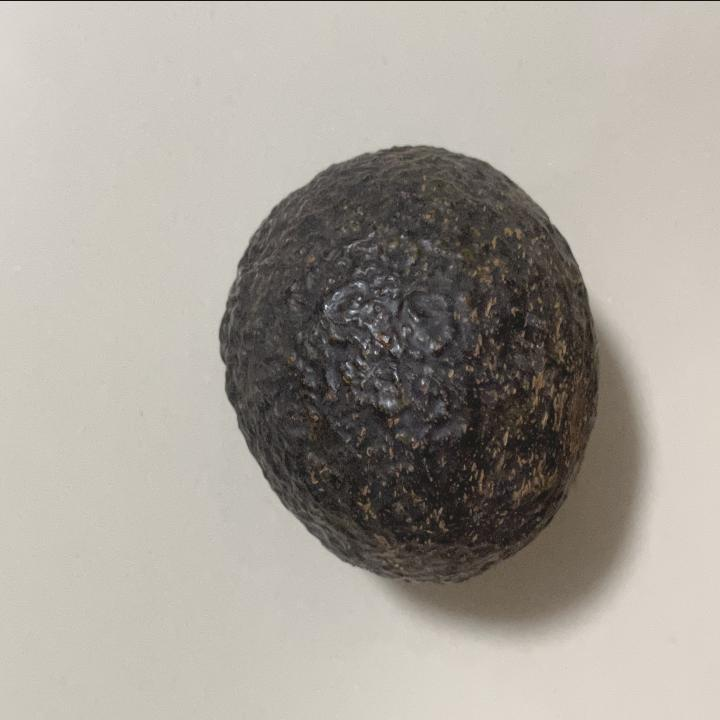Level2: (211, 134, 605, 594)
